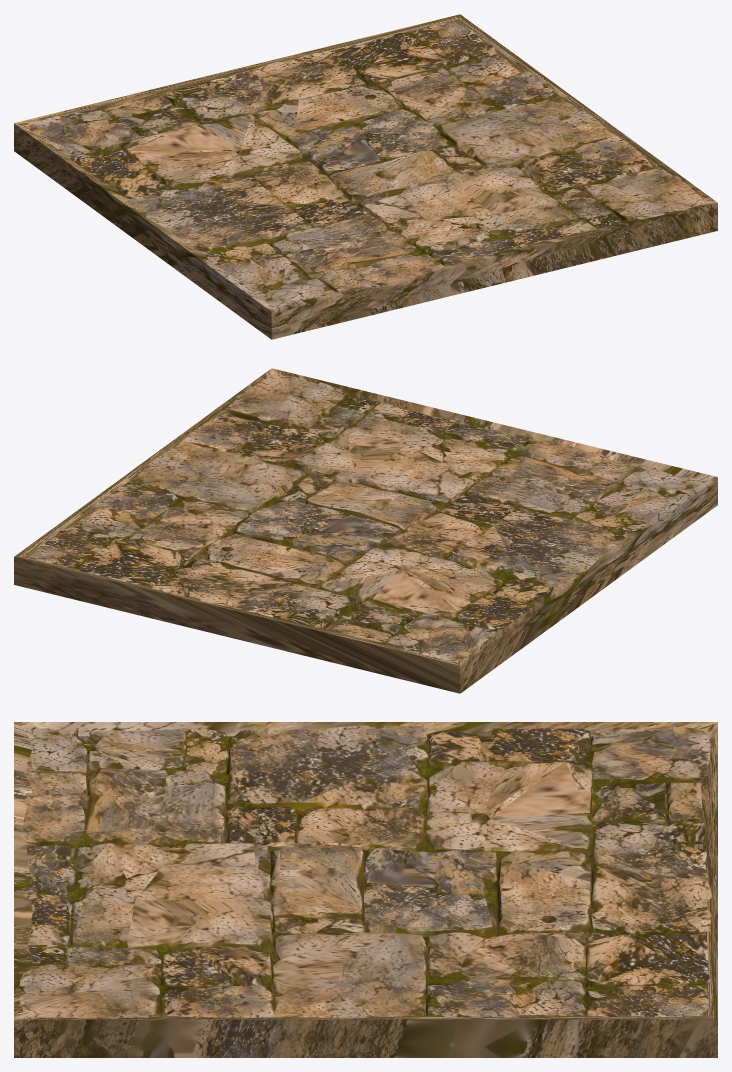
Rendered from ARQ_PisoPiedraMaya_01_LOD1.fbx.
3 views of the same model, one above another, from view 1: azimuth 30°, elevation 25°; view 2: azimuth 150°, elevation 25°; view 3: azimuth 270°, elevation 25° (orthographic). The views are drawn at different scales.
Parts seen in each view (by area): view 1: ARQ_PisoPiedraMaya_01_Mesh000; view 2: ARQ_PisoPiedraMaya_01_Mesh000; view 3: ARQ_PisoPiedraMaya_01_Mesh000.
Boxes of the visible parts, x1,y1,x2,y2 form: ARQ_PisoPiedraMaya_01_Mesh000: [14, 14, 717, 339]; ARQ_PisoPiedraMaya_01_Mesh000: [14, 368, 717, 693]; ARQ_PisoPiedraMaya_01_Mesh000: [14, 722, 717, 1057].
Bounding box in the file's own units: 3 × 0.18 × 3.
